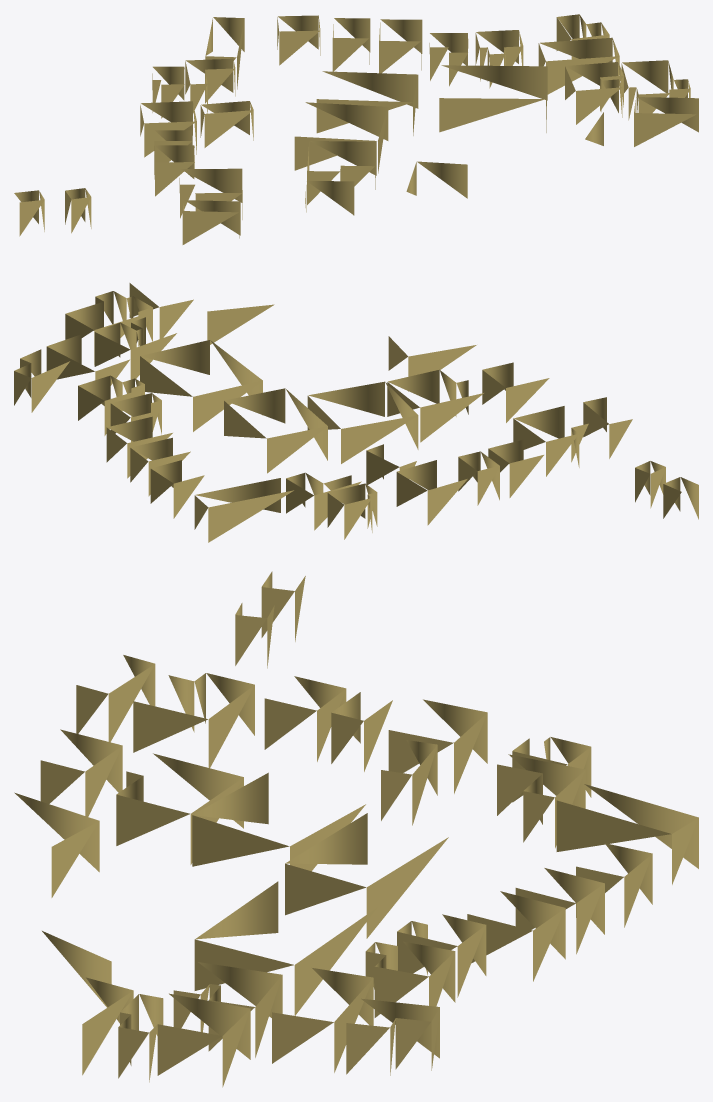
The picture shows the model from 3 angles, top to bottom: view 1: azimuth 30°, elevation 25°; view 2: azimuth 150°, elevation 25°; view 3: azimuth 270°, elevation 25°; orthographic projection. The views are drawn at different scales.
Bounding box in the file's own units: 144 × 7.5 × 89.88.
